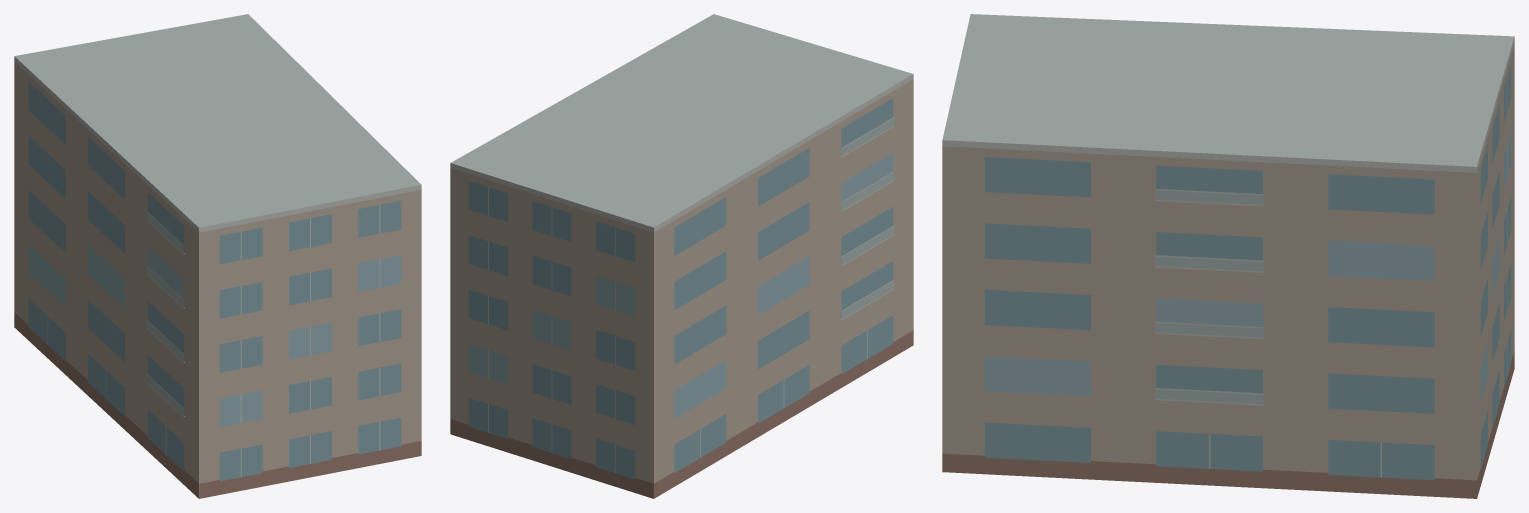
File: survey-upis-32566553.glb
3 renders of one model, left to right at view 1: azimuth 30°, elevation 25°; view 2: azimuth 150°, elevation 25°; view 3: azimuth 270°, elevation 25°, orthographic. The views are drawn at different scales.
Parts seen in each view (by area): view 1: survey-upis-32566553.tmp; view 2: survey-upis-32566553.tmp; view 3: survey-upis-32566553.tmp.
Part boxes in pixels (left/top/right/bottom): survey-upis-32566553.tmp: left=14, top=14, right=421, bottom=498; survey-upis-32566553.tmp: left=450, top=14, right=913, bottom=498; survey-upis-32566553.tmp: left=942, top=14, right=1514, bottom=498.
Bounding box in the file's own units: 13.15 × 13.3 × 20.79.
